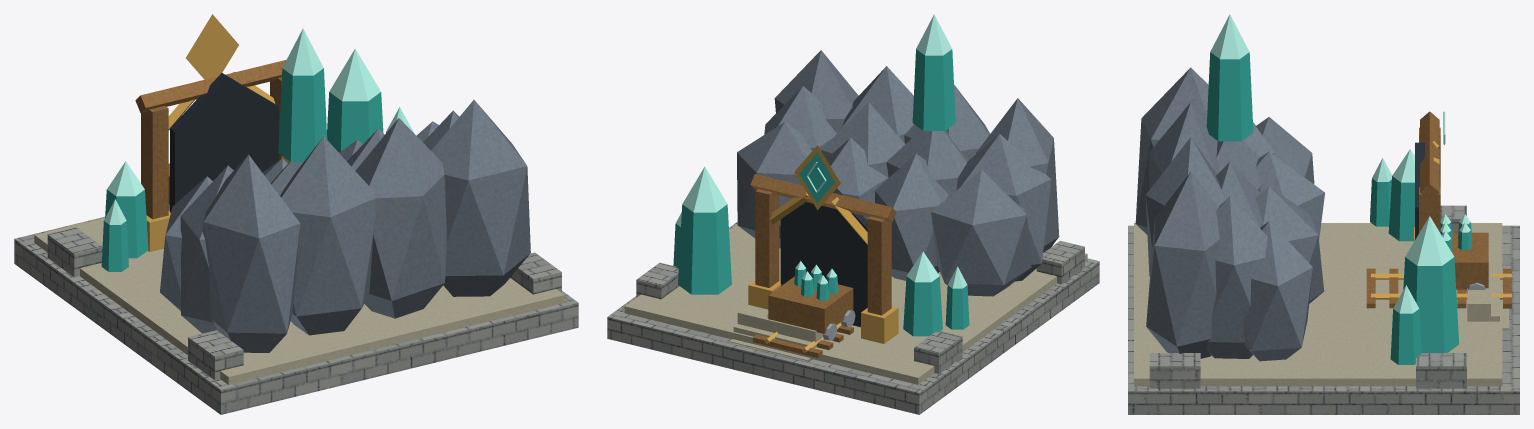
Rendered from CrystalMine_1.fbx.
3 renders of one model, left to right at view 1: azimuth 30°, elevation 25°; view 2: azimuth 150°, elevation 25°; view 3: azimuth 270°, elevation 25°, orthographic. The views are drawn at different scales.
Parts seen in each view (by area): view 1: BuildingBody; view 2: BuildingBody; view 3: BuildingBody.
Part boxes in pixels (x1,y1,x2,y2): BuildingBody: [14, 14, 578, 414]; BuildingBody: [607, 14, 1099, 414]; BuildingBody: [1128, 14, 1519, 414].
Bounding box in the file's own units: 1 × 0.84 × 1.
Materials: 1 (1 with a texture image).
